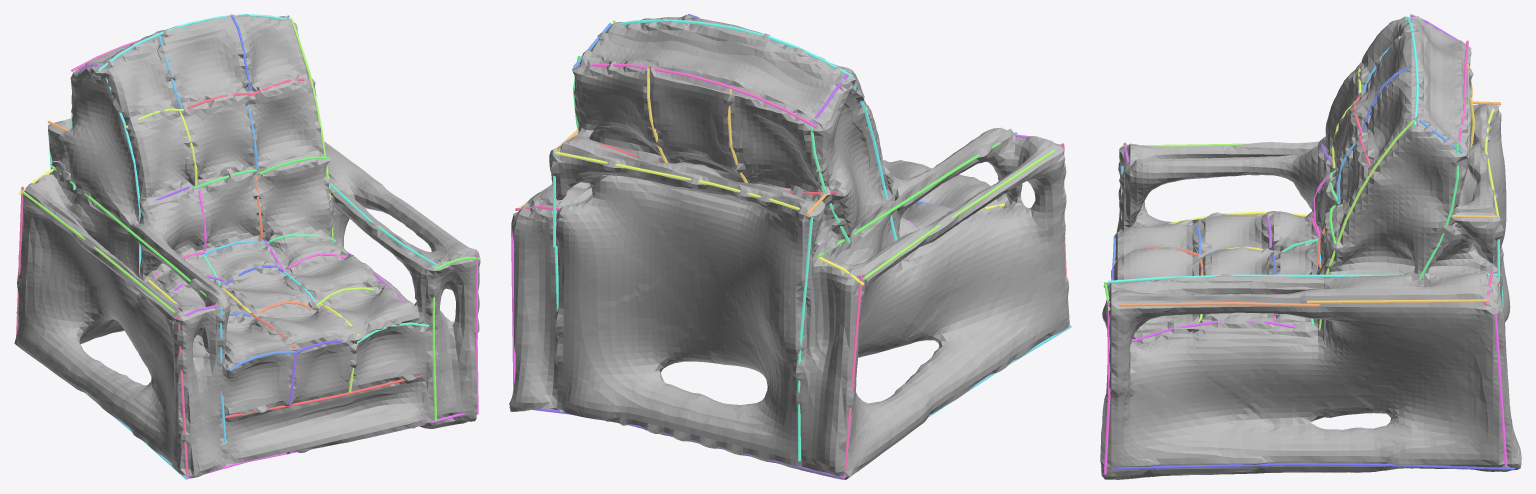
File: author2_sofa.gltf
3 renders of one model, left to right at view 1: azimuth 30°, elevation 25°; view 2: azimuth 150°, elevation 25°; view 3: azimuth 270°, elevation 25°, orthographic. The views are drawn at different scales.
Bounding box in the file's own units: 0.5572 × 0.5955 × 0.6233.
